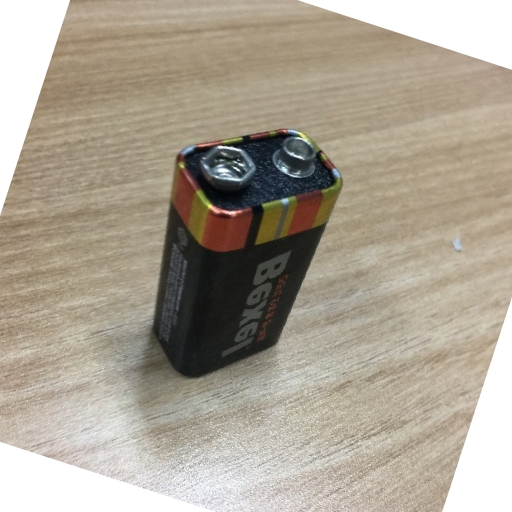Battery_3: (148, 119, 348, 383)
